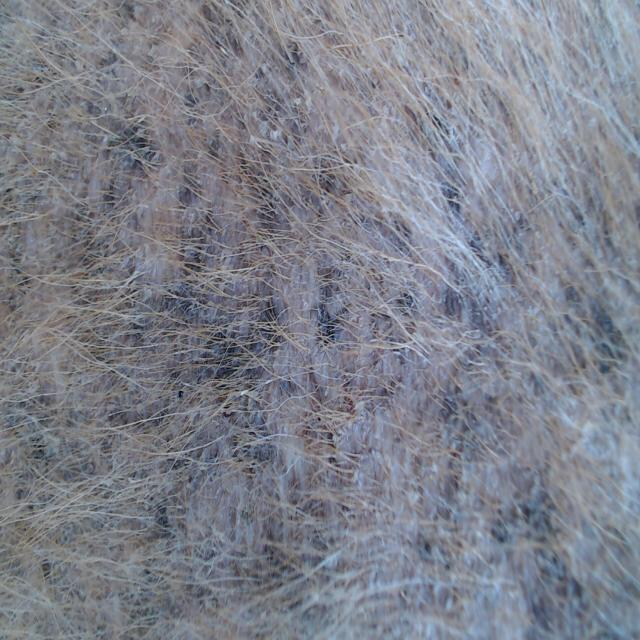demodicosis: (201, 67, 586, 594)
